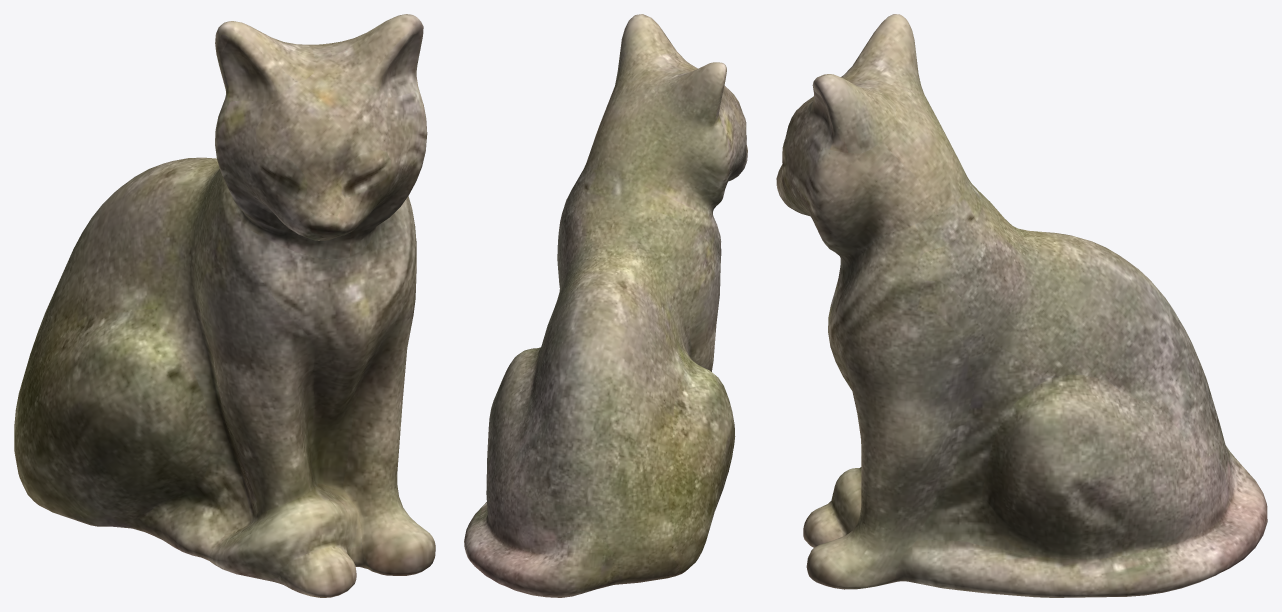
Rendered from concrete_cat_statue.glb.
3 views of the same model, side by side, from view 1: azimuth 30°, elevation 25°; view 2: azimuth 150°, elevation 25°; view 3: azimuth 270°, elevation 25° (orthographic). The views are drawn at different scales.
Visible parts, largest first — view 1: concrete_cat_statue; view 2: concrete_cat_statue; view 3: concrete_cat_statue.
Part boxes in pixels (<box>): concrete_cat_statue: <box>14,14,435,597</box>; concrete_cat_statue: <box>464,14,747,597</box>; concrete_cat_statue: <box>776,14,1267,597</box>.
Bounding box in the file's own units: 0.153 × 0.283 × 0.25.
Materials: 1 (1 with a texture image).
